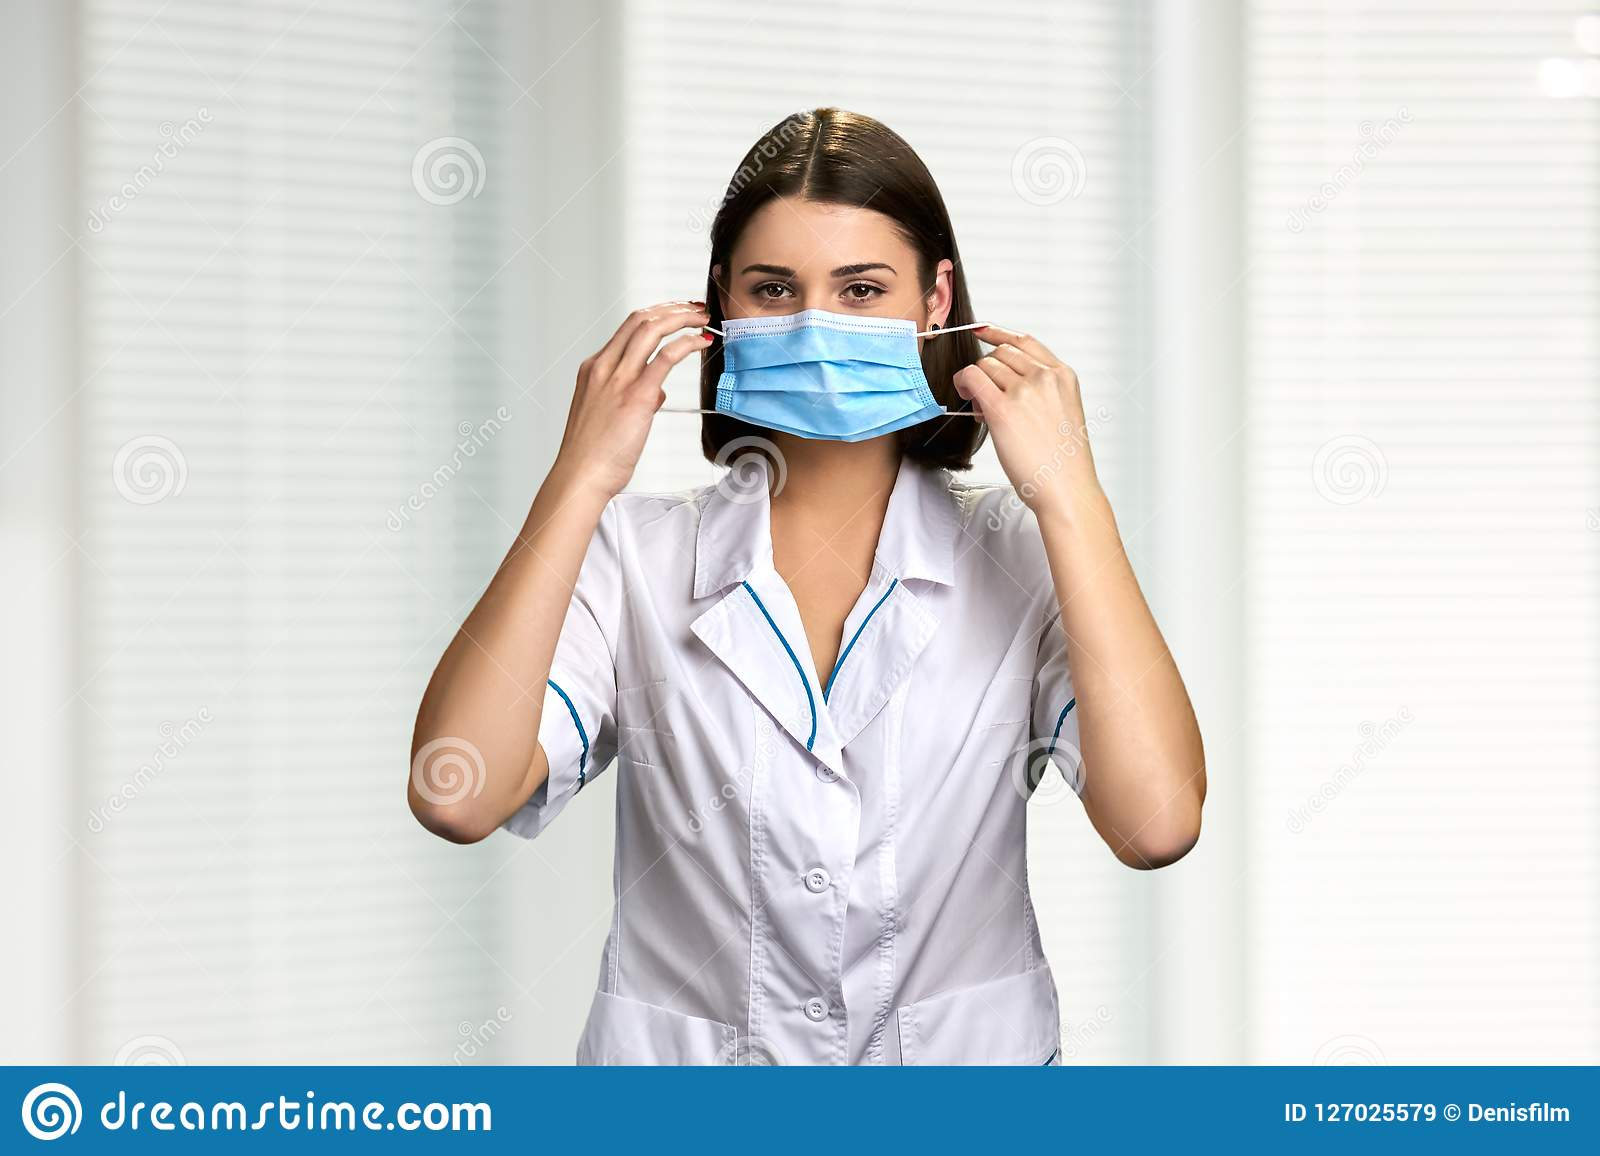mask: (717, 307, 952, 443)
